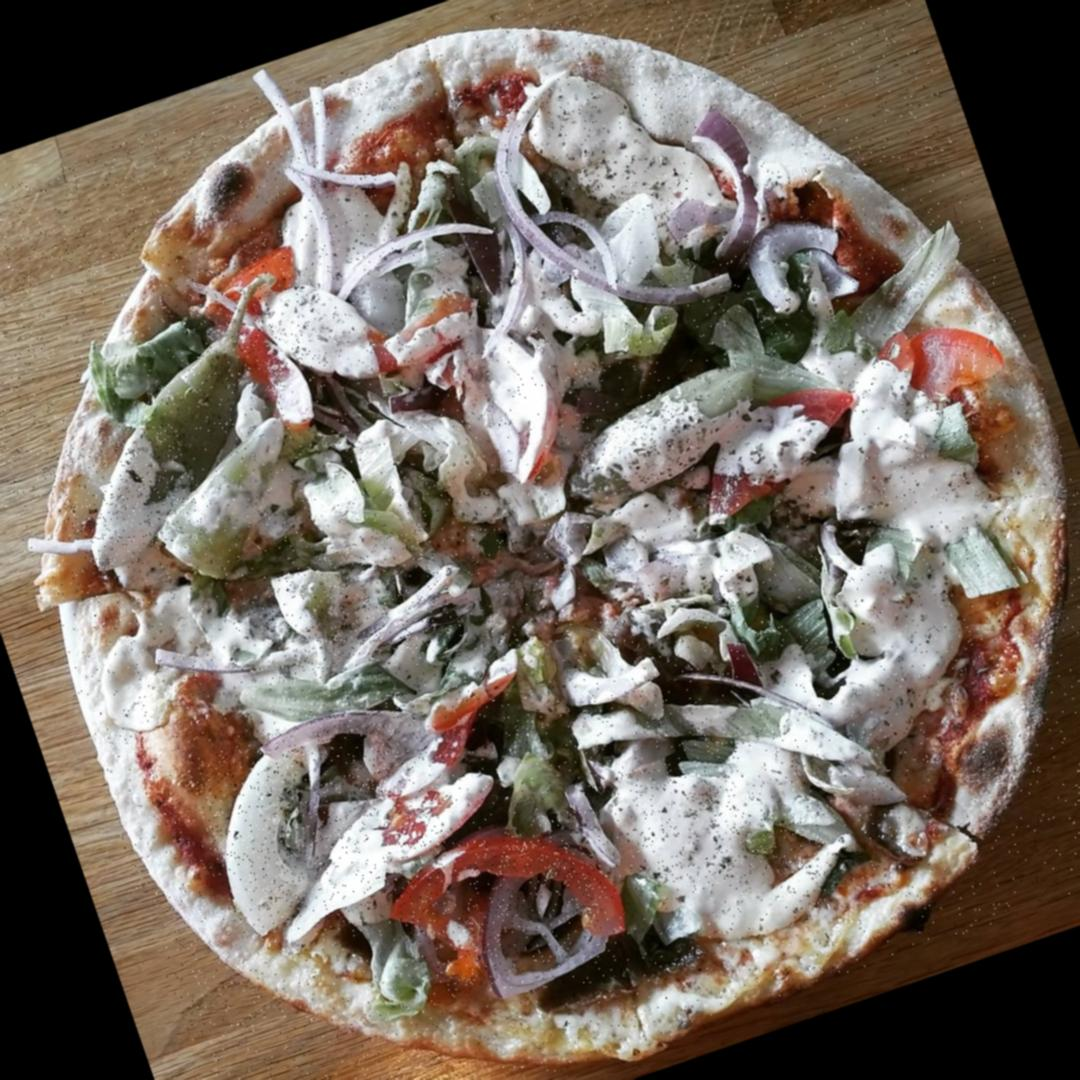Chicken: (616, 712, 839, 906), (246, 522, 464, 697), (50, 424, 208, 574)
Onion: (456, 30, 737, 362), (182, 688, 466, 943), (246, 68, 400, 286)
Peppers: (390, 805, 625, 1002), (684, 363, 870, 520), (178, 232, 326, 395), (841, 304, 1008, 432)
Pizza: (0, 0, 1080, 1080)
